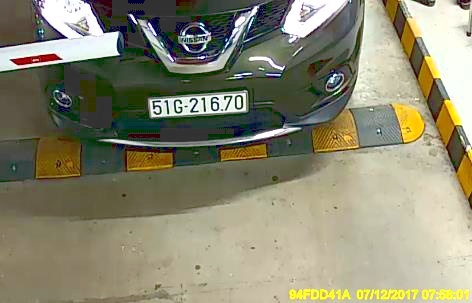plate: (145, 91, 252, 121)
